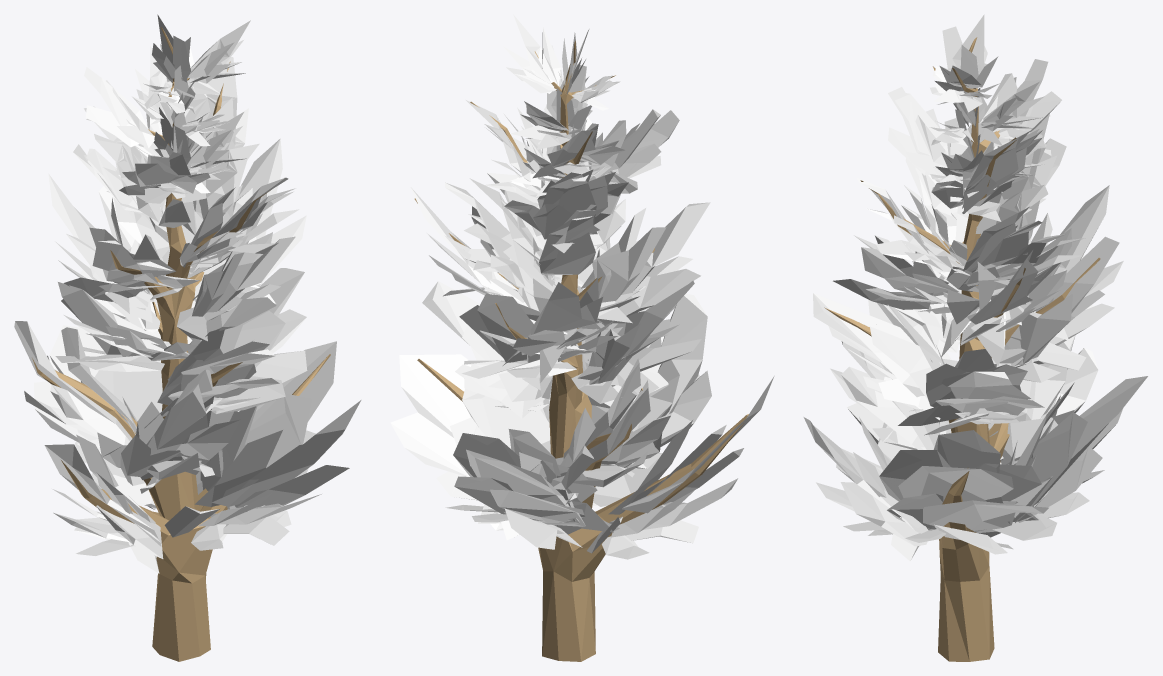
File: SnowtulipA-1.fbx
3 renders of one model, left to right at view 1: azimuth 30°, elevation 25°; view 2: azimuth 150°, elevation 25°; view 3: azimuth 270°, elevation 25°, orthographic.
Parts seen in each view (by area): view 1: leaves.005, trunk.001; view 2: leaves.005, trunk.001; view 3: leaves.005, trunk.001.
Part boxes in pixels (left/top/right/bottom): leaves.005: left=14, top=14, right=361, bottom=573; trunk.001: left=32, top=27, right=330, bottom=661; leaves.005: left=390, top=14, right=774, bottom=559; trunk.001: left=414, top=41, right=748, bottom=661; leaves.005: left=803, top=14, right=1147, bottom=561; trunk.001: left=824, top=37, right=1100, bottom=661.
Bounding box in the file's own units: 432 × 817 × 405.
